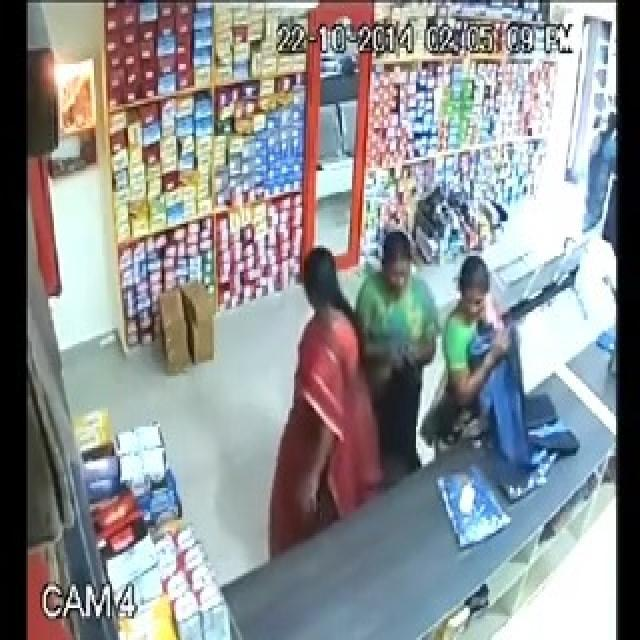Normal: (239, 221, 362, 544), (449, 229, 580, 527), (344, 216, 444, 535)
